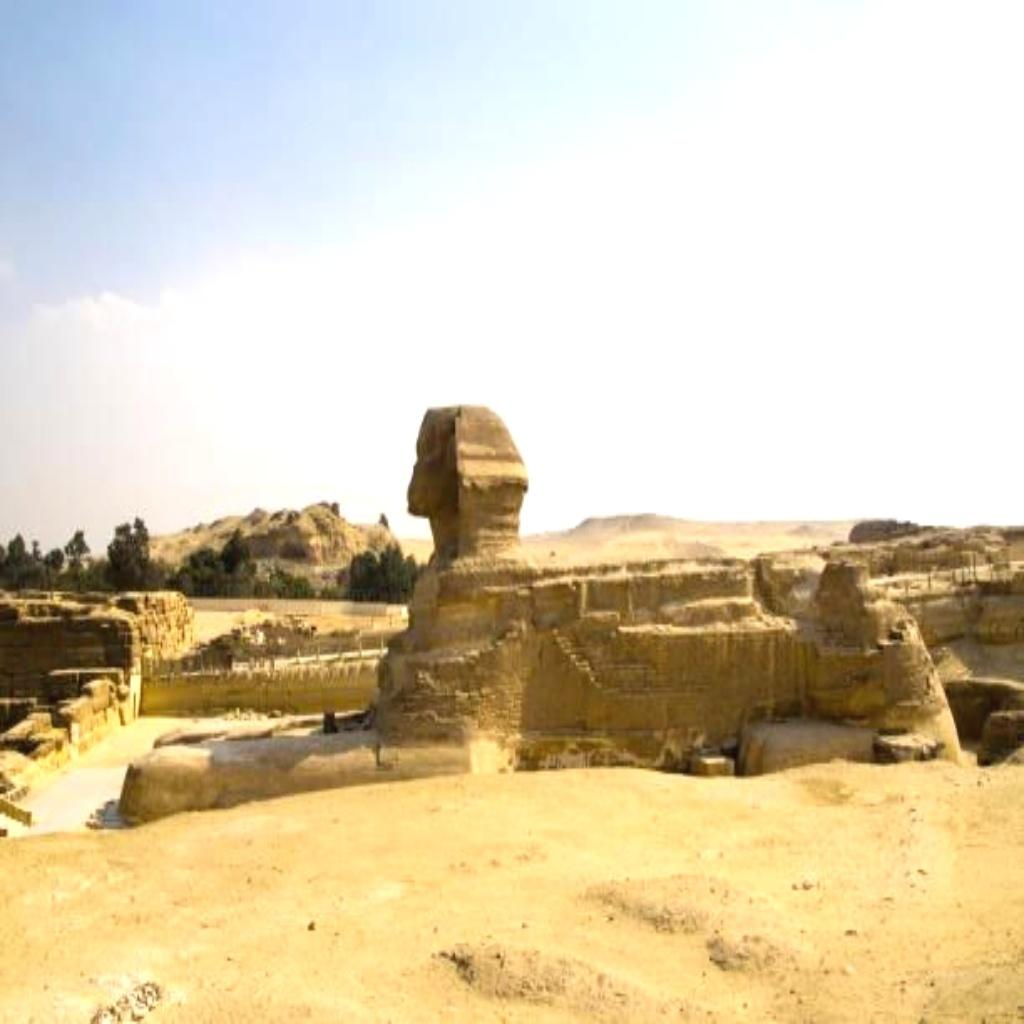Sphinx: (370, 400, 1016, 774)
